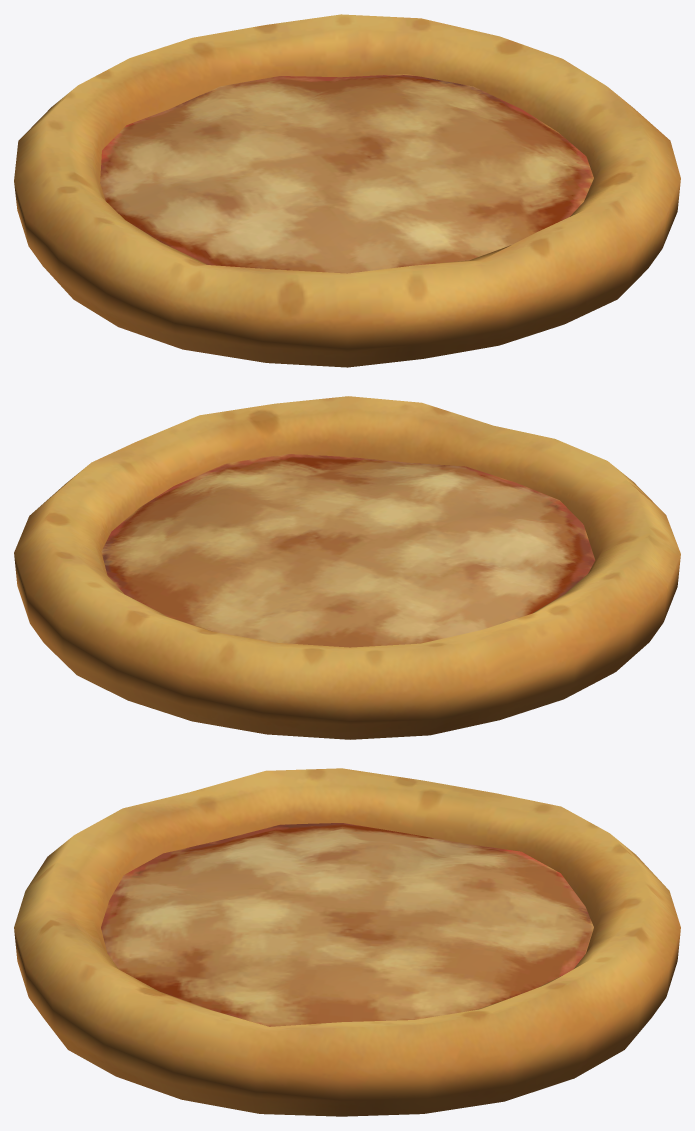
Rendered from CookedBase.fbx.
The picture shows the model from 3 angles, top to bottom: view 1: azimuth 30°, elevation 25°; view 2: azimuth 150°, elevation 25°; view 3: azimuth 270°, elevation 25°; orthographic projection. The views are drawn at different scales.
Visible parts, largest first — view 1: CookedBase; view 2: CookedBase; view 3: CookedBase.
Part boxes in pixels (x1=…): CookedBase: x1=14, y1=14, x2=680, y2=367; CookedBase: x1=14, y1=396, x2=680, y2=739; CookedBase: x1=14, y1=768, x2=680, y2=1116.
Size of the model in its own units: 0.9049 by 0.1319 by 0.9018.
Materials: 1 (1 with a texture image).
